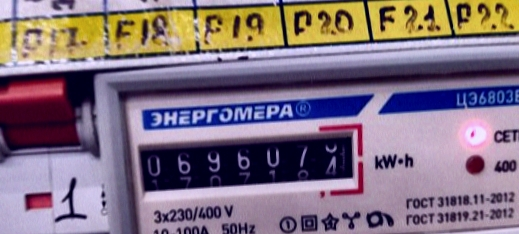0: (142, 151, 161, 176), (262, 141, 279, 167)
4: (320, 153, 337, 178)
6: (172, 149, 191, 174), (232, 144, 251, 169)
7: (292, 141, 309, 168)
9: (202, 147, 220, 172)
screen: (122, 116, 368, 205)
